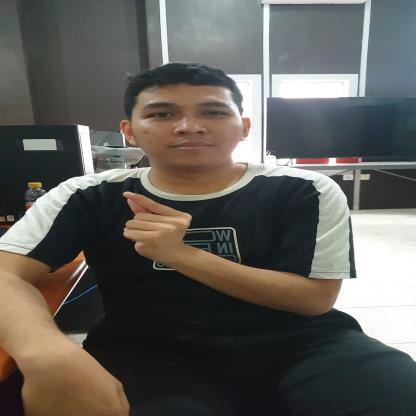R: (117, 190, 199, 266)
